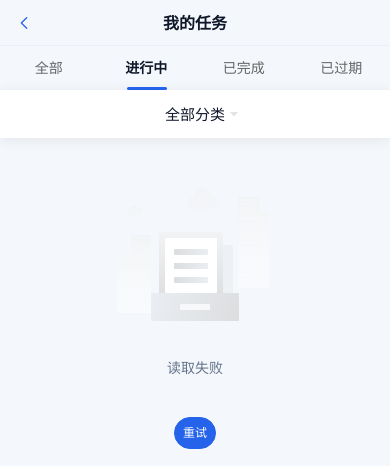
Test: MineTasksPage › shows first-page error and retries without showing a false empty result
The width and height of the screenshot is (390, 466).
Expected: the element with test id "mine-tasks-error" shows "读取失败", x1=167 y1=358 x2=223 y2=377
Click the button with test id "mine-tasks-retry" at [195, 433], box x1=174 y1=417 x2=216 y2=449
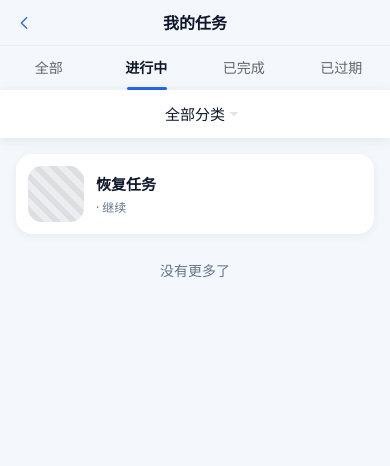
Expected: the button with test id "mine-task-card" shows "恢复任务", x1=16 y1=154 x2=374 y2=234
